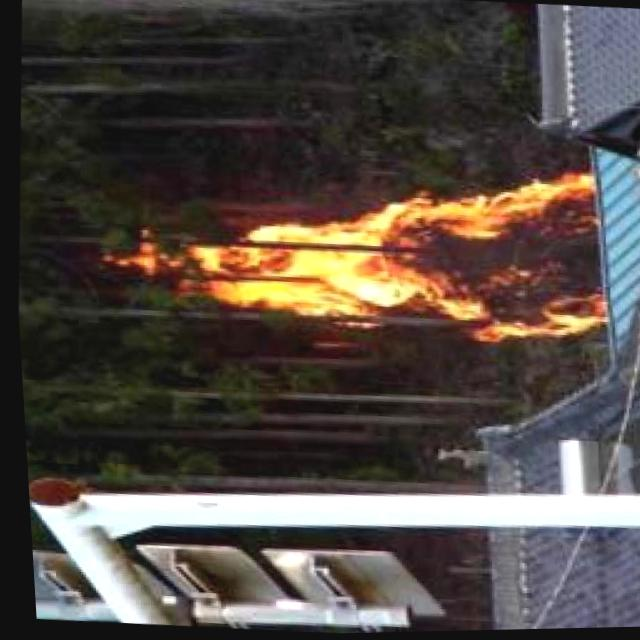helmet: (184, 157, 604, 350)
